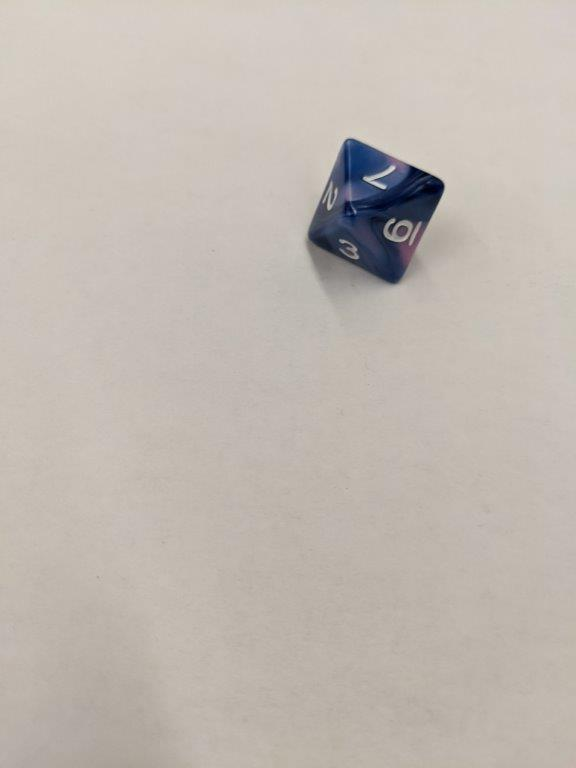d8-7: (305, 135, 446, 287)
